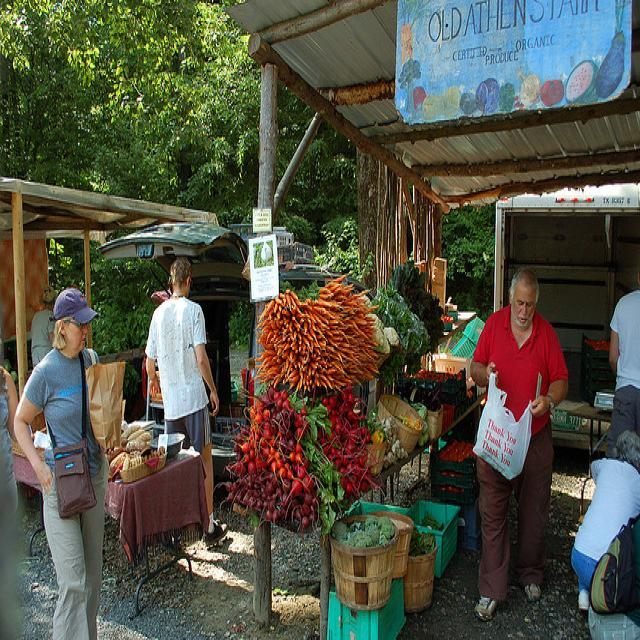Vehicle: (493, 183, 640, 470)
